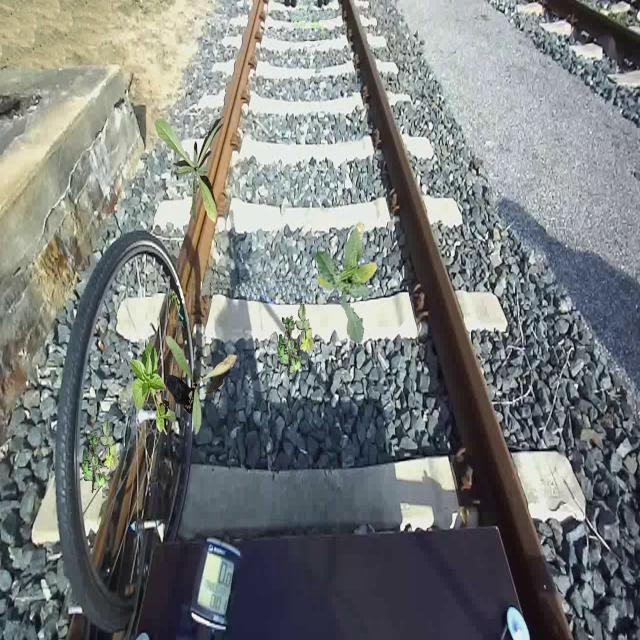Plant: (315, 220, 378, 344), (154, 116, 226, 224), (166, 335, 238, 434), (128, 341, 176, 436), (277, 303, 314, 376), (81, 420, 118, 493)
